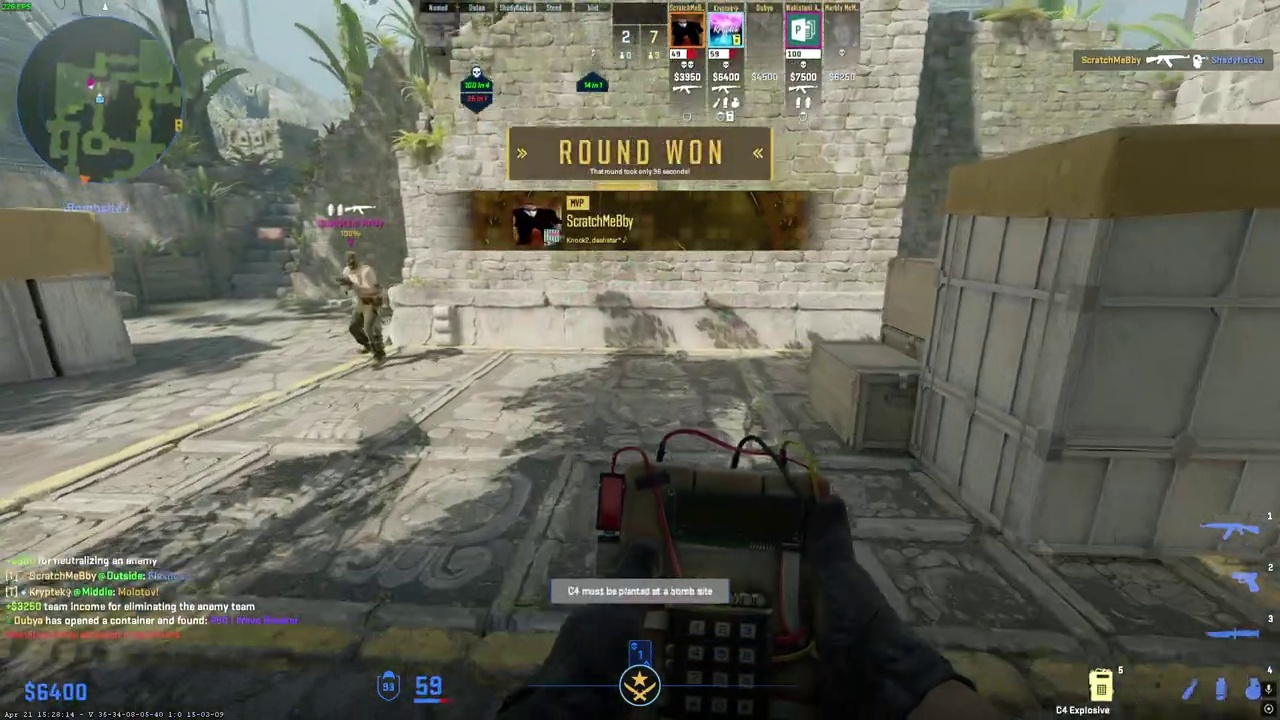Terrorist: (341, 251, 387, 366)
